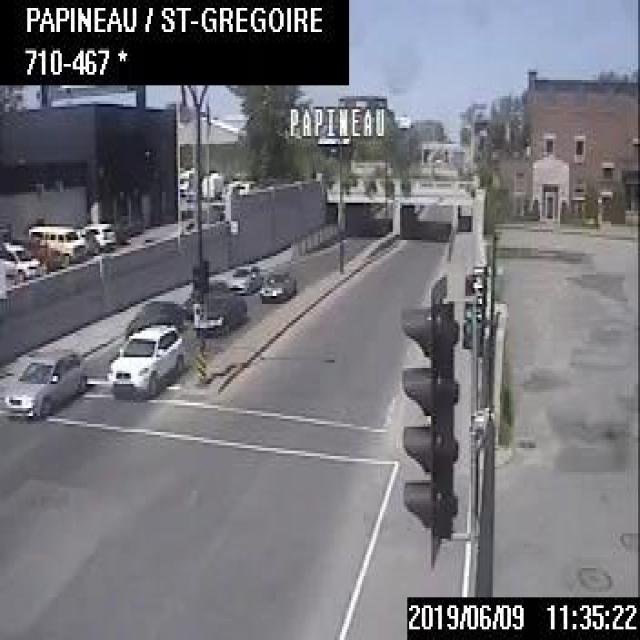vehicle: (0, 344, 87, 416), (104, 320, 181, 397), (22, 219, 87, 262), (189, 292, 248, 337), (122, 295, 187, 335), (0, 240, 44, 280), (254, 268, 294, 304), (225, 259, 261, 293), (81, 219, 116, 247)
